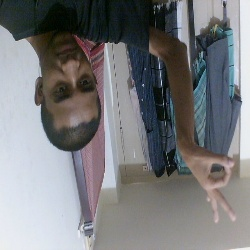hand: (169, 127, 242, 229)
